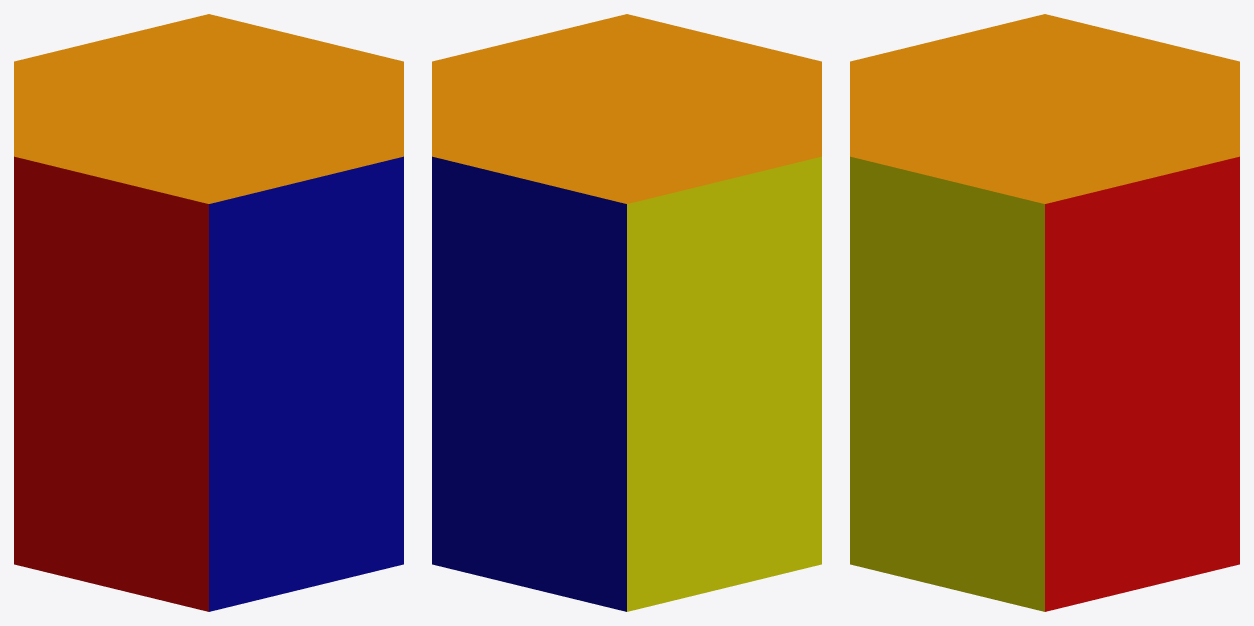
Rendered from color_primitive_HexaPillar.fbx.
3 views of the same model, side by side, from view 1: azimuth 30°, elevation 25°; view 2: azimuth 150°, elevation 25°; view 3: azimuth 270°, elevation 25° (orthographic).
Parts seen in each view (by area): view 1: pCylinder3; view 2: pCylinder3; view 3: pCylinder3.
Part boxes in pixels (x1=…): pCylinder3: x1=14, y1=14, x2=403, y2=611; pCylinder3: x1=432, y1=14, x2=821, y2=611; pCylinder3: x1=850, y1=14, x2=1239, y2=611.
Size of the model in its own units: 7.5 by 7.5 by 6.5.
